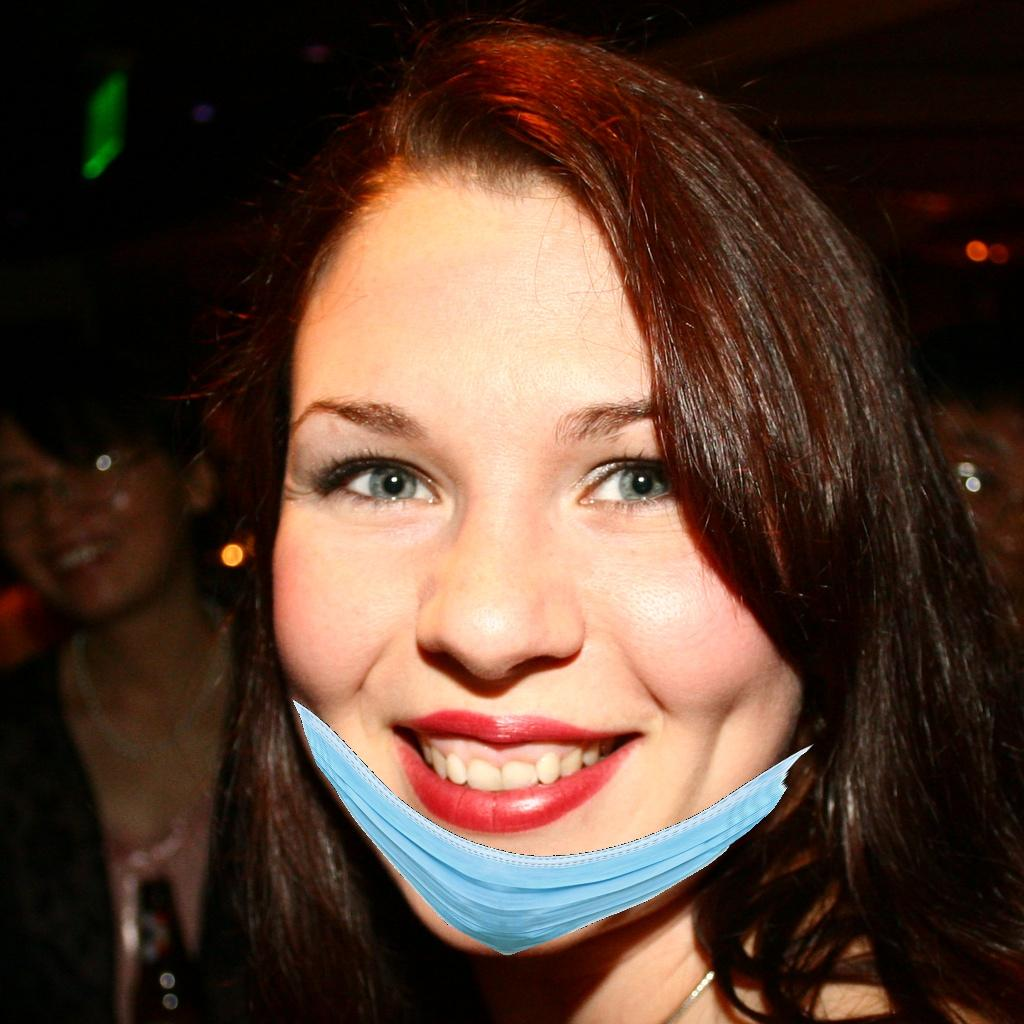Máscara Incorreta: (272, 333, 781, 939)
Sem Máscara: (5, 435, 193, 600)
